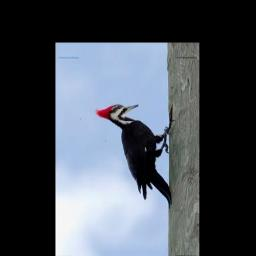Woodpecker: (95, 103, 175, 208)
